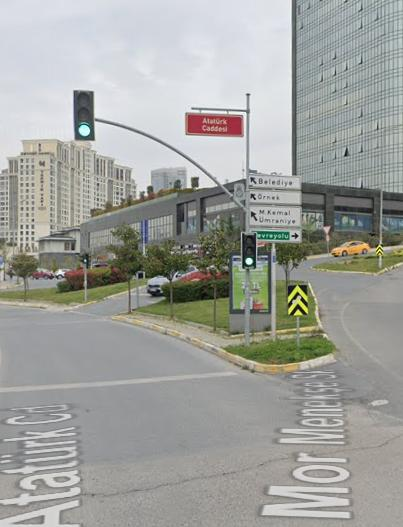greenlight: (73, 88, 95, 139), (240, 229, 257, 271)
